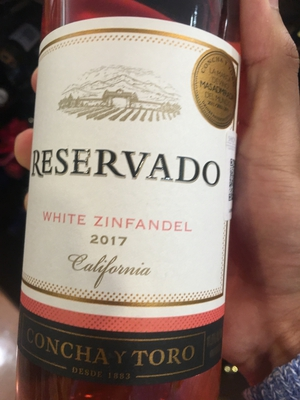reservado white zinfandel: (25, 1, 239, 400)
